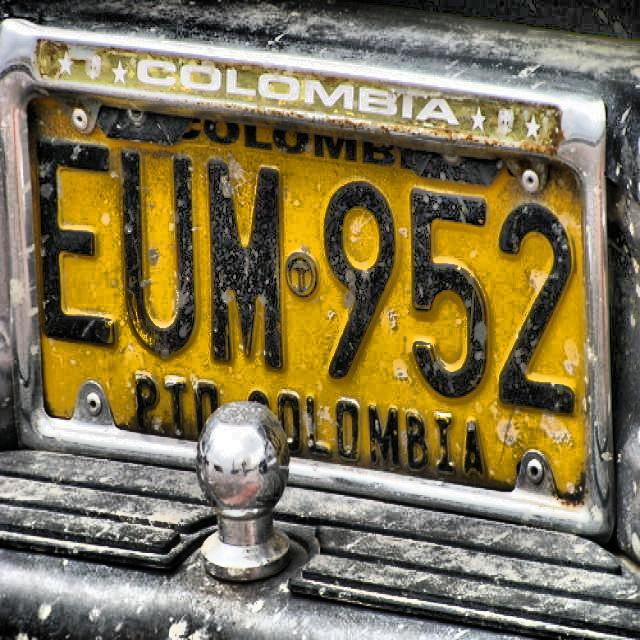plate: (20, 71, 597, 519)
